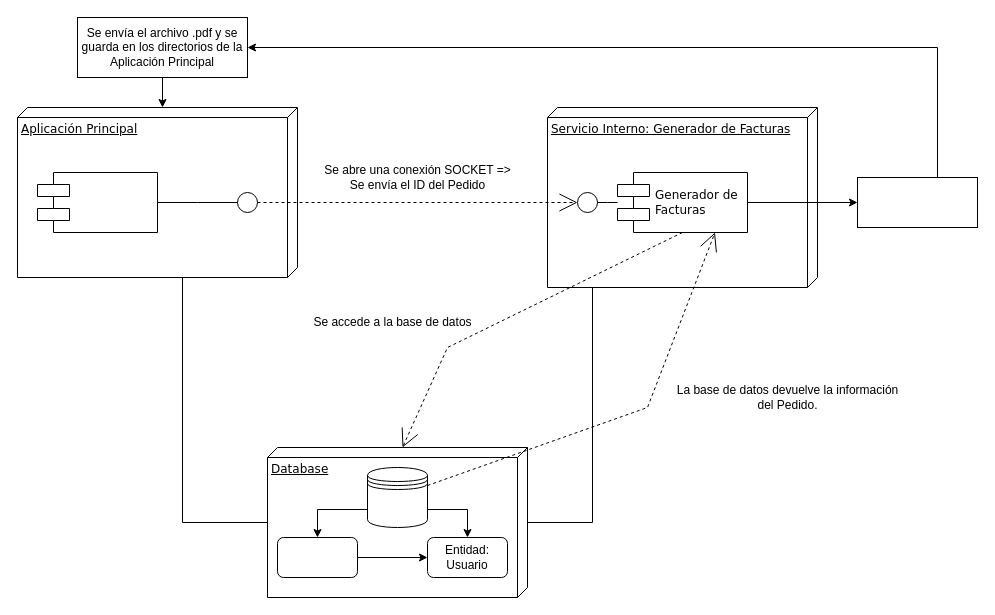
This 995x615 diagram has some shape labels left out. Here are the shapes that lost their labels. From the top down, the centre of each, then its label:
At (x=97, y=202): "Se pide una factura".
At (x=917, y=202): "Se guarda la factura en el servicio Interno".
At (x=317, y=557): "Entidad: Pedido".
